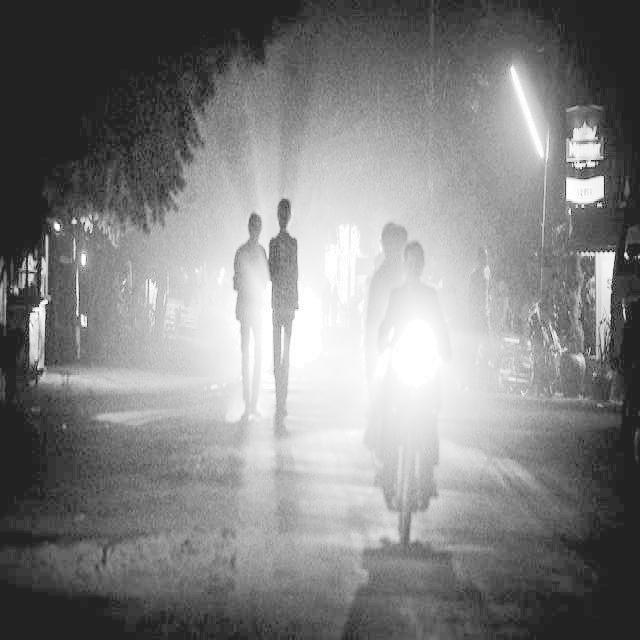Motorcycle: (359, 334, 459, 560)
Person: (268, 188, 300, 426)
